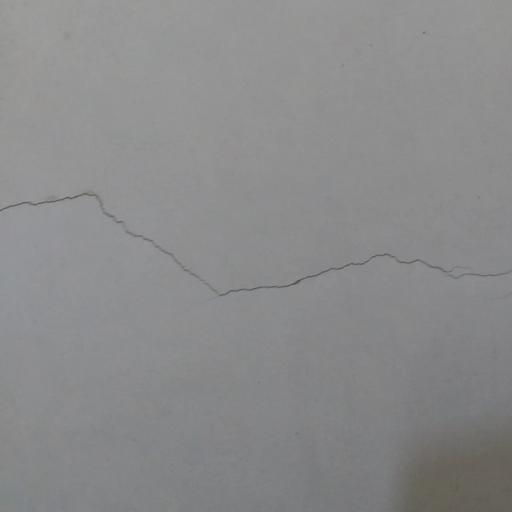minor_crack: (0, 189, 512, 302)
